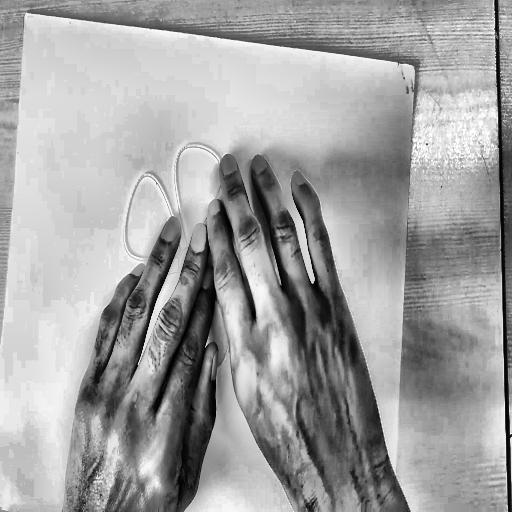flower: (96, 125, 296, 512)
top_left: (21, 5, 31, 22)
top_right: (409, 58, 419, 77)
